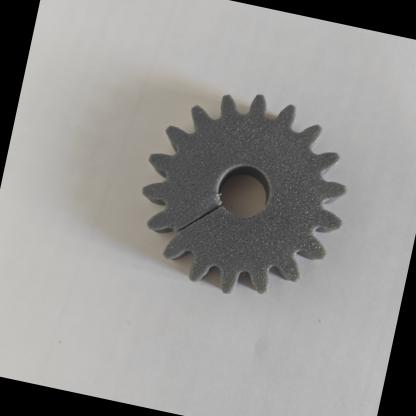defect: (138, 166, 246, 274)
gear: (102, 66, 376, 329)
